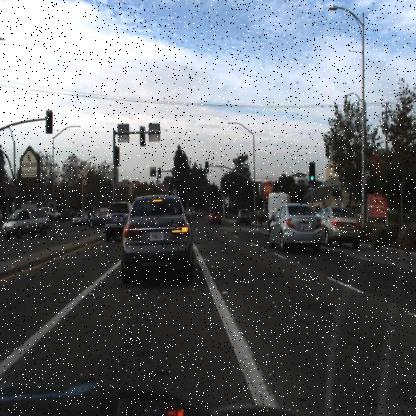car: (122, 195, 195, 276), (271, 196, 330, 258), (316, 203, 365, 254), (314, 205, 363, 249), (2, 208, 49, 237), (104, 201, 134, 241), (104, 201, 132, 237), (86, 203, 110, 228), (206, 204, 225, 226), (206, 208, 224, 228), (185, 198, 197, 220), (236, 208, 250, 224), (184, 205, 196, 223), (72, 210, 86, 224), (125, 203, 133, 223), (106, 208, 113, 220)
trafficLight: (46, 107, 53, 133), (112, 144, 120, 166), (138, 126, 146, 146)
trafficLight-Green: (203, 159, 211, 175), (308, 162, 314, 182), (170, 176, 176, 190), (156, 167, 161, 177)
truck: (266, 191, 294, 231), (267, 190, 290, 231)
